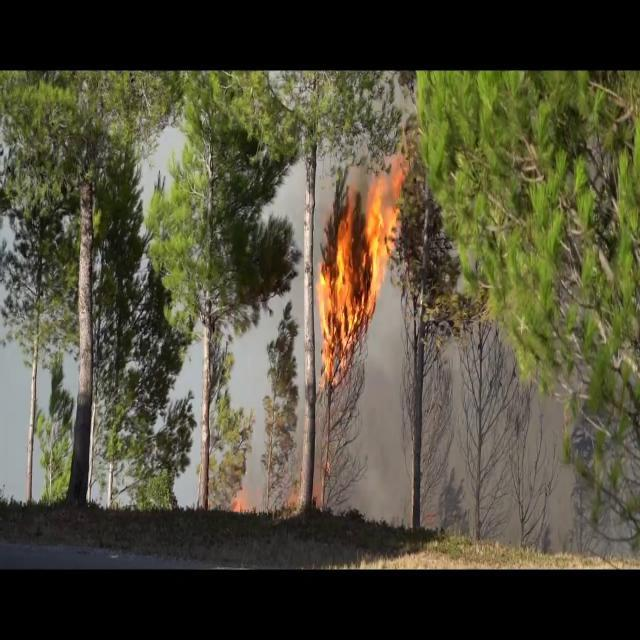Fire: (314, 147, 408, 373)
